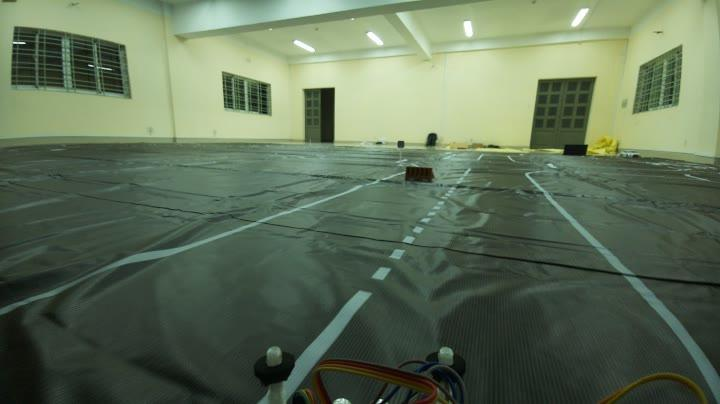roadblock: (404, 164, 437, 184)
